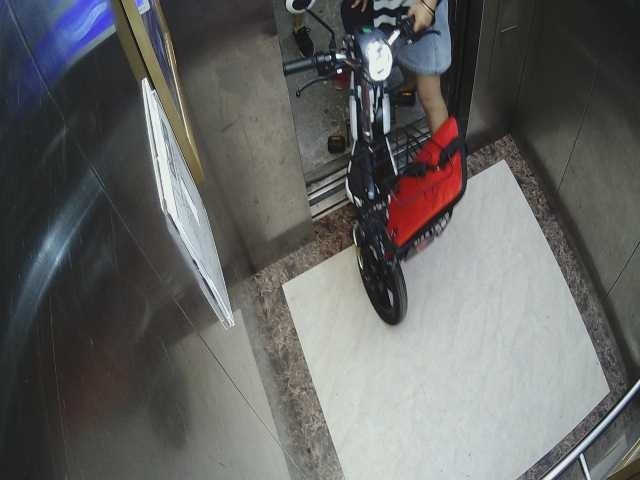emotor: (281, 4, 464, 341)
